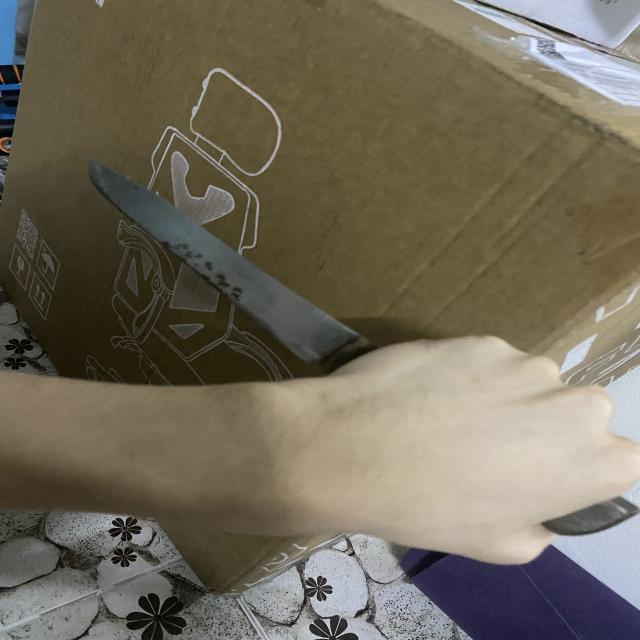faca: (81, 155, 619, 562)
